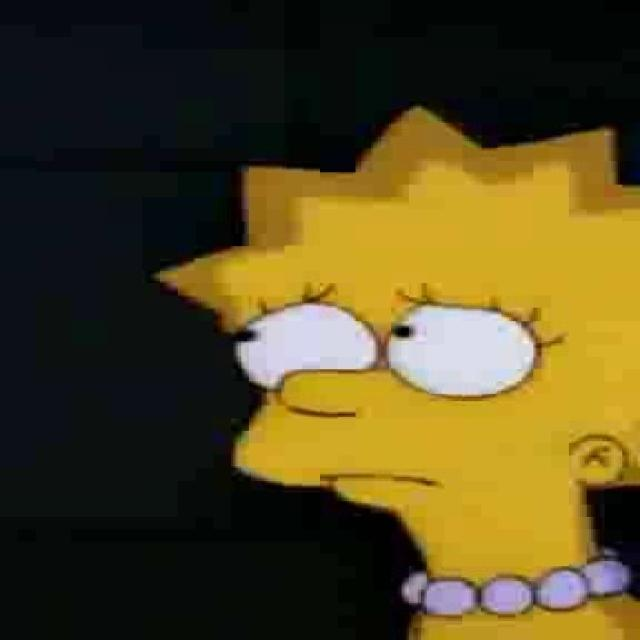Lisa Simpson: (151, 100, 640, 620)
